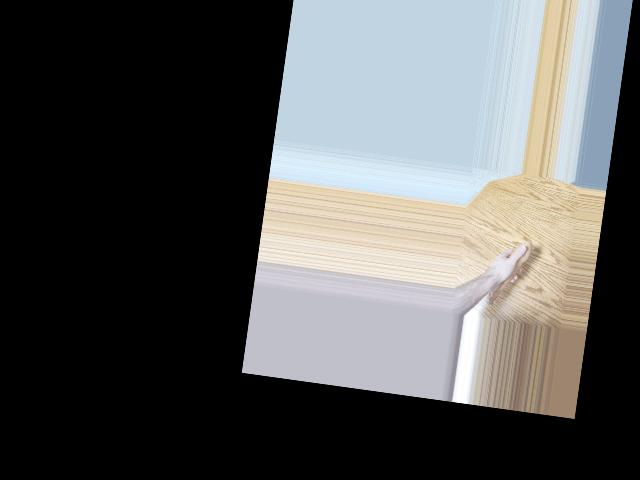sweet_potato: (484, 239, 531, 311)
